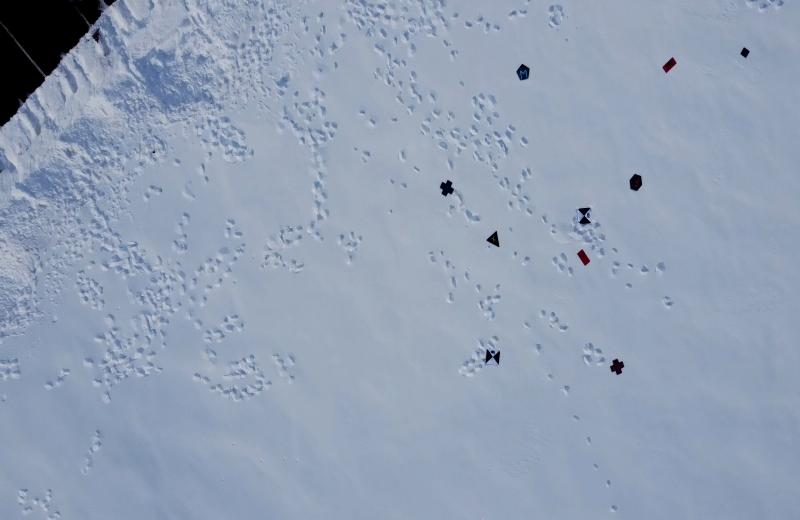Cross: (609, 358, 625, 377), (439, 179, 455, 197)
Hexagon: (628, 173, 644, 192)
Pentagon: (515, 62, 533, 82)
Rectangle: (661, 57, 677, 73), (578, 248, 590, 268)
Square: (738, 46, 752, 60)
Triangle: (486, 230, 502, 251)
